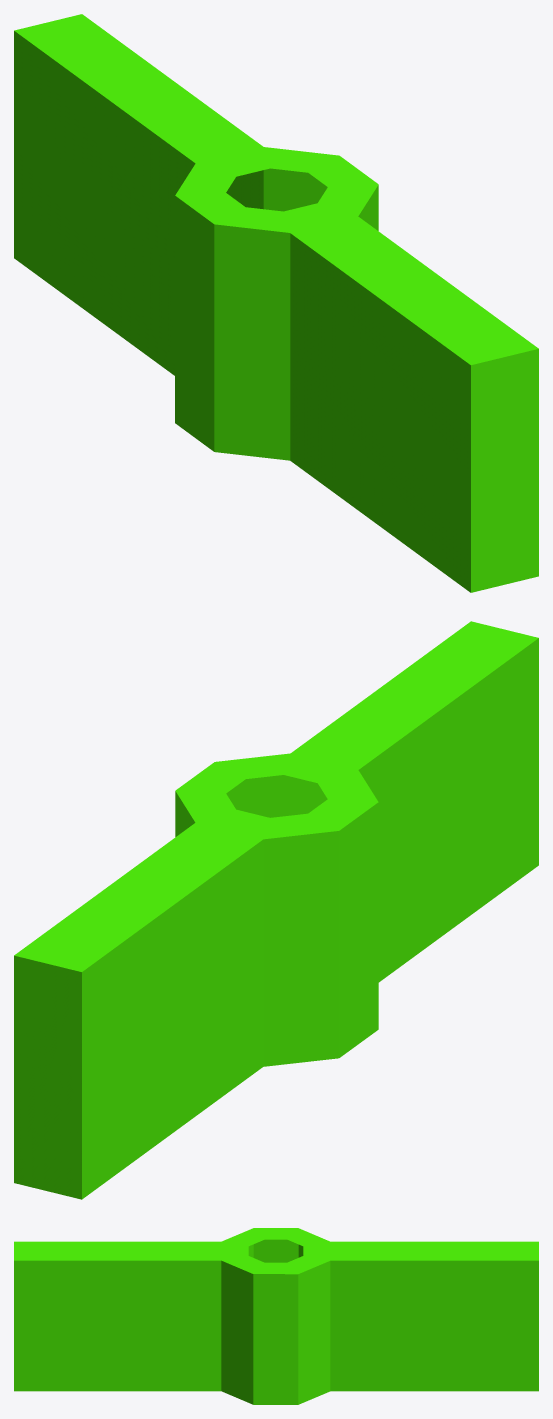
The model's file is spinner.fbx.
3 renders of one model, top to bottom at view 1: azimuth 30°, elevation 25°; view 2: azimuth 150°, elevation 25°; view 3: azimuth 270°, elevation 25°, orthographic. The views are drawn at different scales.
Parts seen in each view (by area): view 1: cylinder1; view 2: cylinder1; view 3: cylinder1.
Part boxes in pixels (left/top/right/bottom): cylinder1: left=14, top=14, right=538, bottom=592; cylinder1: left=14, top=621, right=538, bottom=1199; cylinder1: left=14, top=1228, right=538, bottom=1404.
Bounding box in the file's own units: 3.74 × 4.95 × 18.03.
